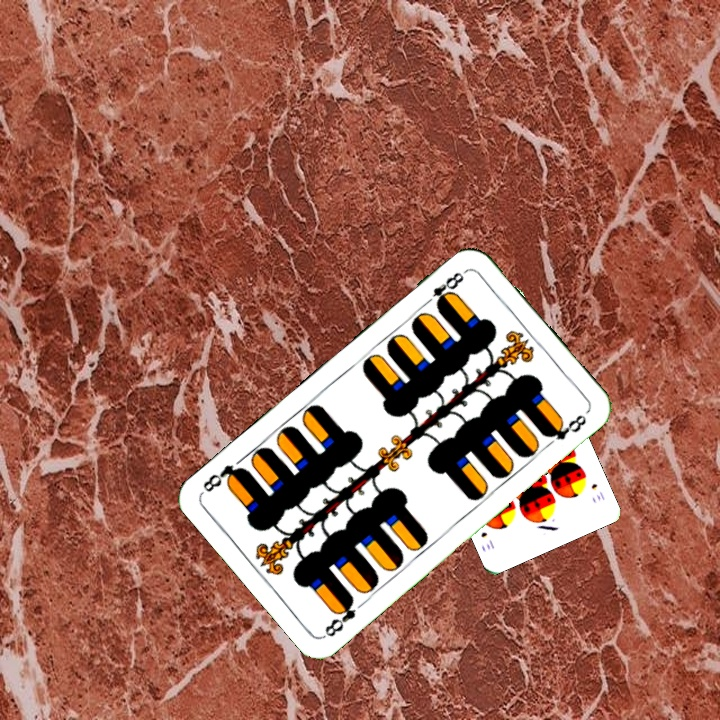E8: (420, 266, 469, 311), (320, 592, 359, 640)
S10: (587, 479, 607, 504)
